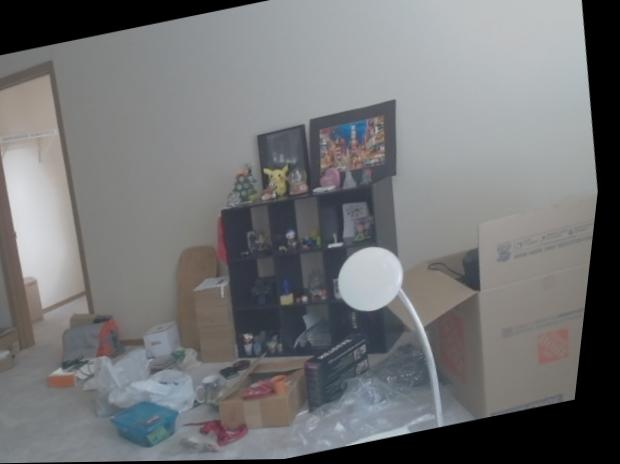Fan: (335, 239, 420, 318)
